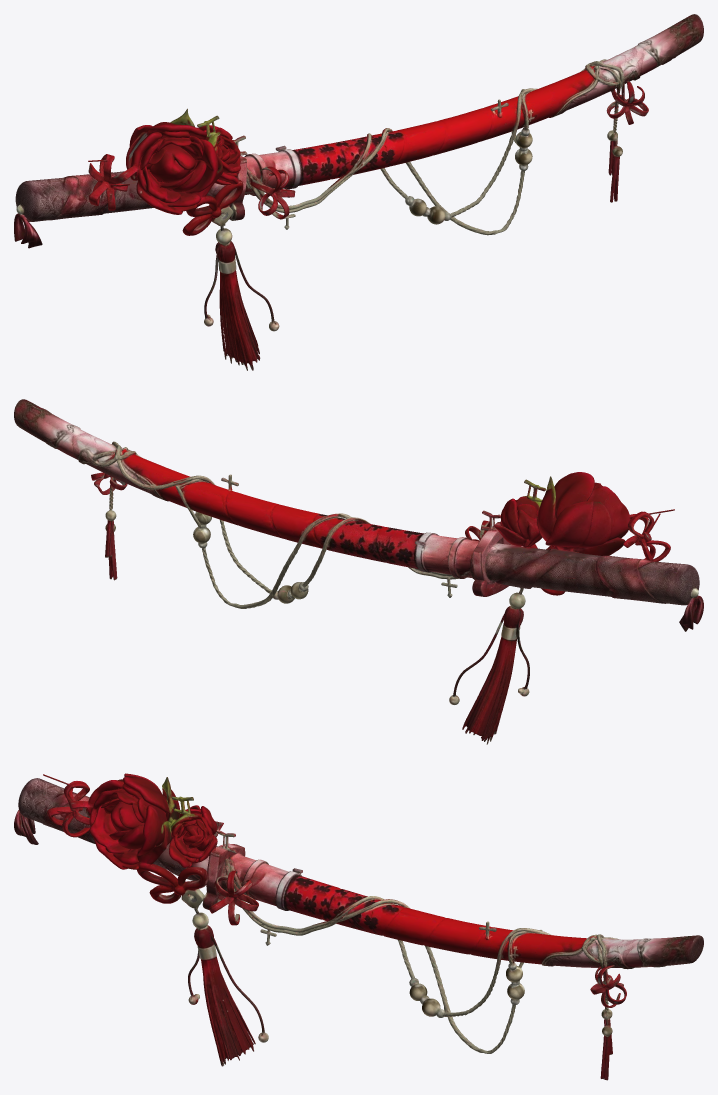
File: katana-sheathed.glb
3 renders of one model, top to bottom at view 1: azimuth 30°, elevation 25°; view 2: azimuth 150°, elevation 25°; view 3: azimuth 330°, elevation 25°, orthographic.
Size of the model in its own units: 1.9 by 0.7323 by 0.2524.
Materials: 1 (1 with a texture image).
